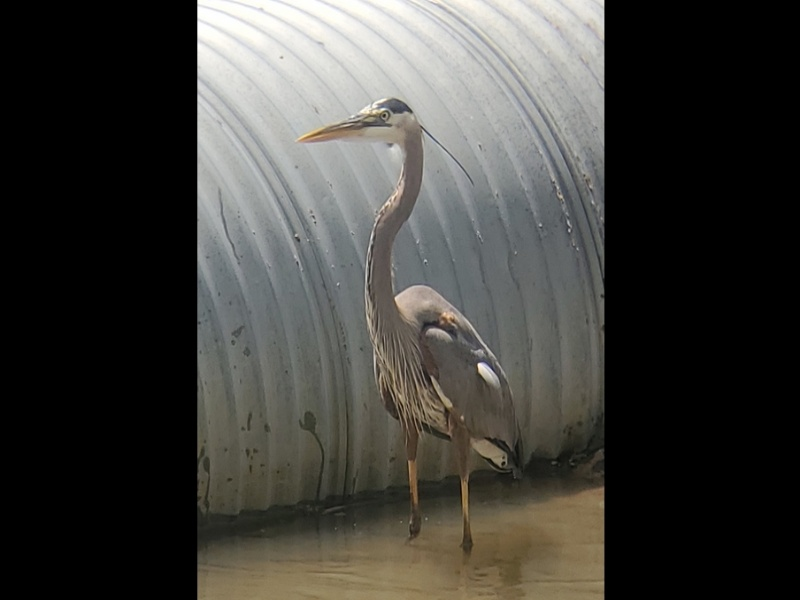heron: (294, 97, 524, 493)
